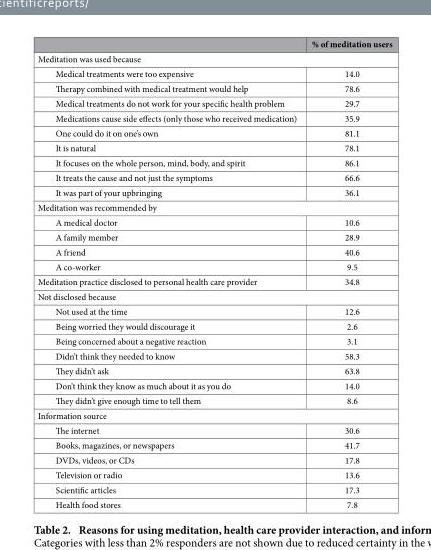table: (36, 37, 391, 510)
table column: (36, 37, 303, 510), (303, 37, 391, 510)
table column header: (36, 37, 391, 50)
table projected row header: (36, 50, 391, 65), (36, 199, 391, 214), (36, 288, 391, 303), (36, 407, 391, 422)
table row: (36, 50, 391, 65), (36, 65, 391, 80), (36, 80, 391, 95), (36, 95, 391, 110), (36, 110, 391, 125), (36, 125, 391, 140), (36, 154, 391, 169), (36, 169, 391, 184), (36, 184, 391, 199), (36, 199, 391, 214), (36, 214, 391, 229), (36, 229, 391, 244), (36, 244, 391, 259), (36, 273, 391, 288), (36, 288, 391, 303), (36, 303, 391, 318), (36, 318, 391, 333), (36, 333, 391, 348), (36, 348, 391, 363), (36, 377, 391, 392), (36, 392, 391, 407), (36, 407, 391, 422), (36, 422, 391, 437), (36, 437, 391, 452), (36, 452, 391, 467), (36, 481, 391, 496), (36, 140, 391, 154), (36, 259, 391, 273), (36, 363, 391, 377), (36, 467, 391, 481), (36, 496, 391, 510), (36, 37, 391, 50)
